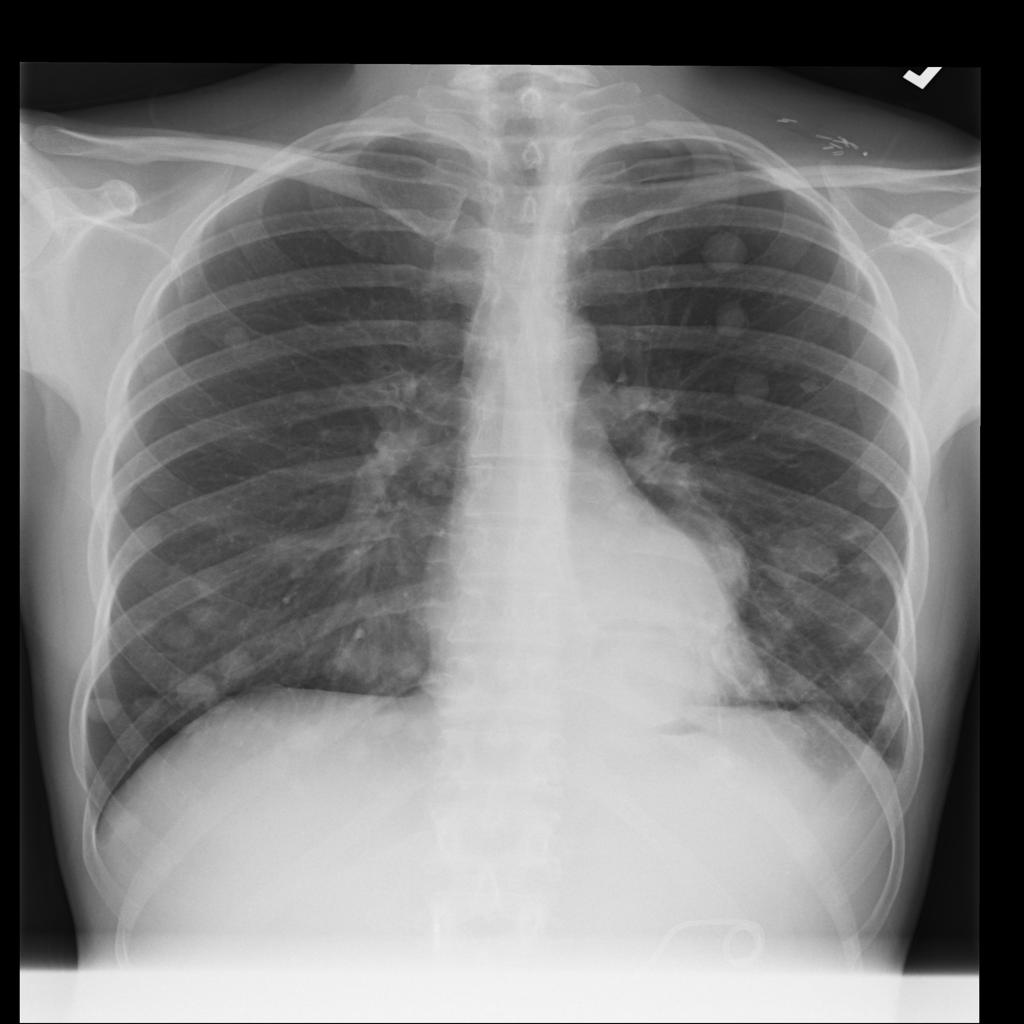nodule: (593, 485, 766, 627), (760, 521, 847, 592), (688, 219, 767, 286), (150, 585, 226, 651), (270, 702, 346, 768), (697, 289, 767, 355), (725, 360, 782, 412), (202, 651, 261, 699), (164, 659, 220, 708), (207, 315, 265, 361), (78, 681, 131, 730), (123, 683, 178, 730), (781, 361, 836, 406), (841, 535, 896, 580), (844, 466, 899, 510)
